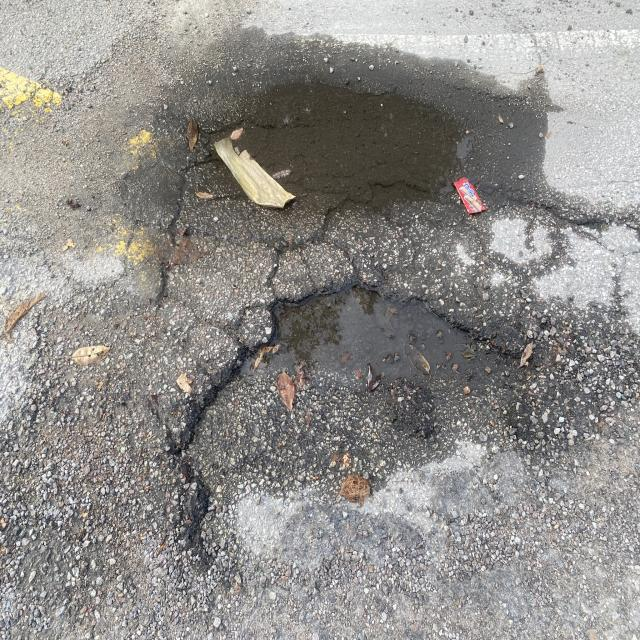pothole: (138, 242, 561, 621)
